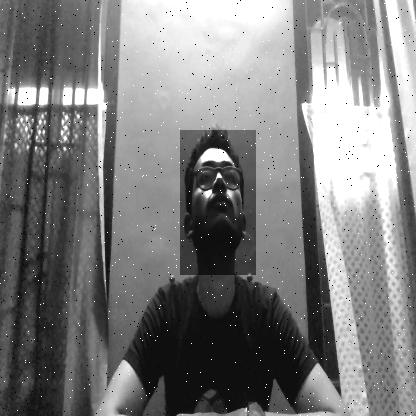Distracted: (180, 130, 256, 275)
